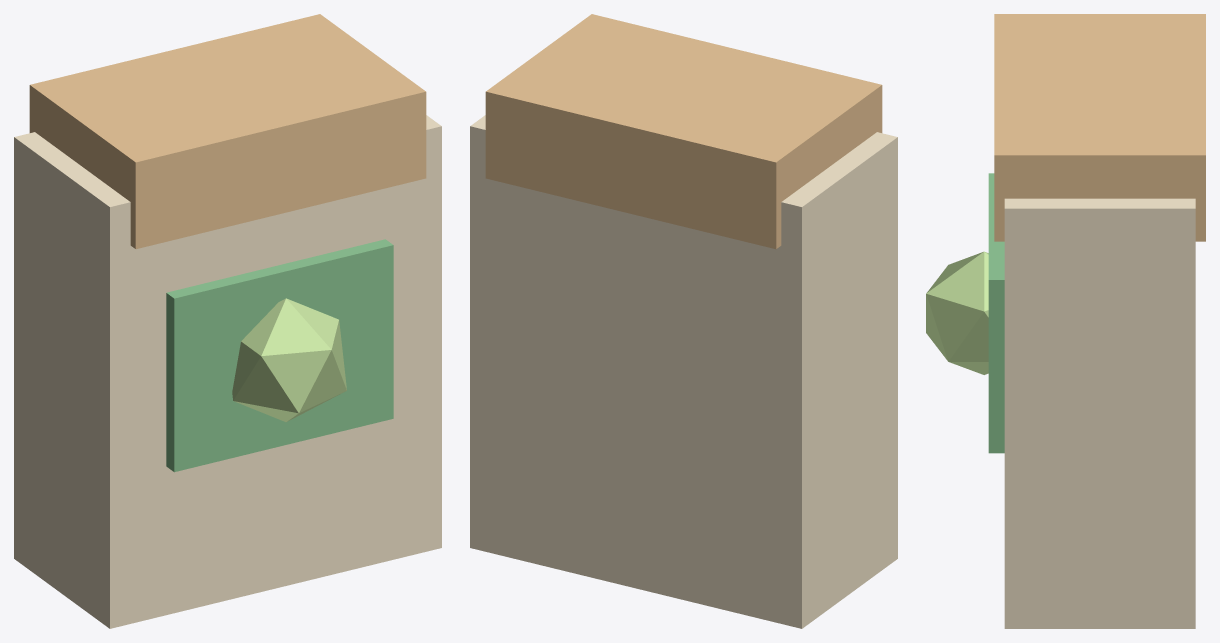
The model's file is seed_cabbage.glb.
The picture shows the model from 3 angles, left to right: view 1: azimuth 30°, elevation 25°; view 2: azimuth 150°, elevation 25°; view 3: azimuth 270°, elevation 25°; orthographic projection.
Parts seen in each view (by area): view 1: folded cloth seed bag, bag folded top, colored seed label, cabbage on label; view 2: folded cloth seed bag, bag folded top; view 3: folded cloth seed bag, bag folded top, cabbage on label, colored seed label.
Part boxes in pixels (<box>): folded cloth seed bag: <box>14,115,441,628</box>; bag folded top: <box>29,14,426,249</box>; colored seed label: <box>166,239,393,472</box>; cabbage on label: <box>232,298,346,422</box>; folded cloth seed bag: <box>470,115,897,628</box>; bag folded top: <box>485,14,882,249</box>; folded cloth seed bag: <box>1004,198,1195,628</box>; bag folded top: <box>994,14,1205,241</box>; cabbage on label: <box>926,251,988,374</box>; colored seed label: <box>988,173,1004,453</box>.
Bounding box in the file's own units: 0.56 × 0.75 × 0.4101.
